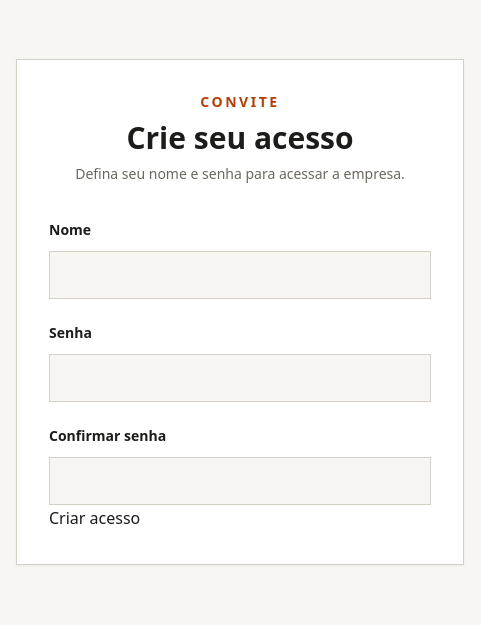
TeamInviteAcceptPage › collapses public invalid, expired, used and revoked failures to one safe message
The width and height of the screenshot is (481, 625).
Step 1. Type "Maria" into the field labelled "Nome" → x=240, y=275, box [49, 251, 431, 299]
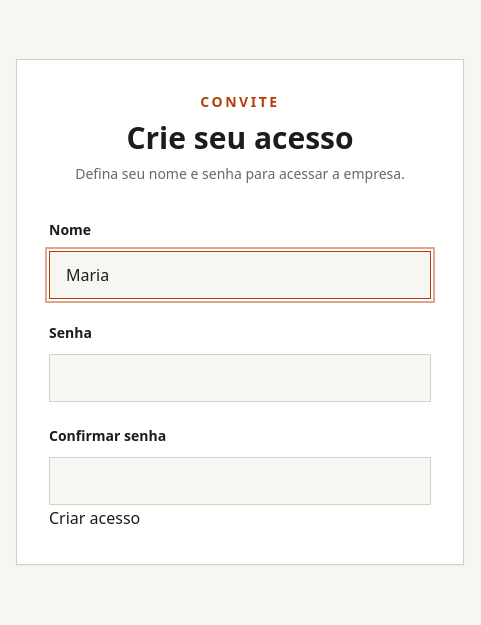
Step 2. Type "Password123" into the password field labelled "Senha" → x=240, y=378, box [49, 354, 431, 402]
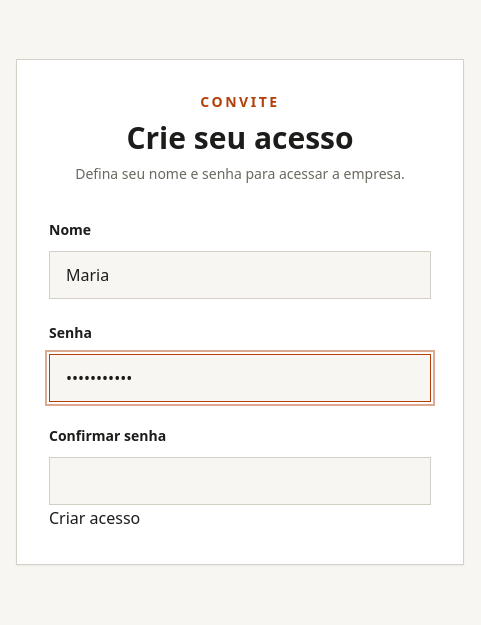
Step 3. Type "Password123" into the password field labelled "Confirmar senha" → x=240, y=481, box [49, 457, 431, 505]
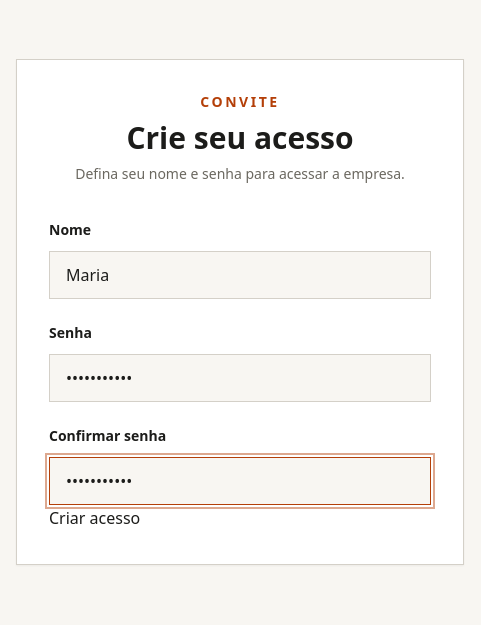
Step 4. Click the button "Criar acesso" → x=95, y=519, box [49, 505, 140, 532]
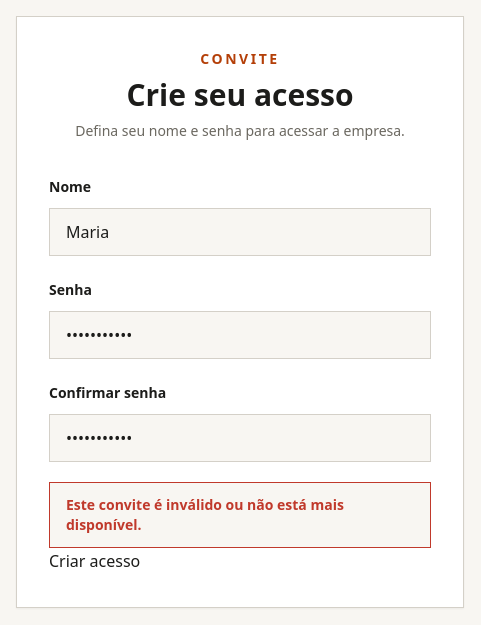
Expected: the text "Este convite é inválido ou não está mais disponível." is shown, [49, 482, 431, 548]
